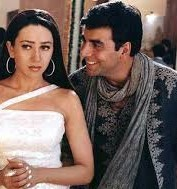Bad: (1, 1, 177, 188)
